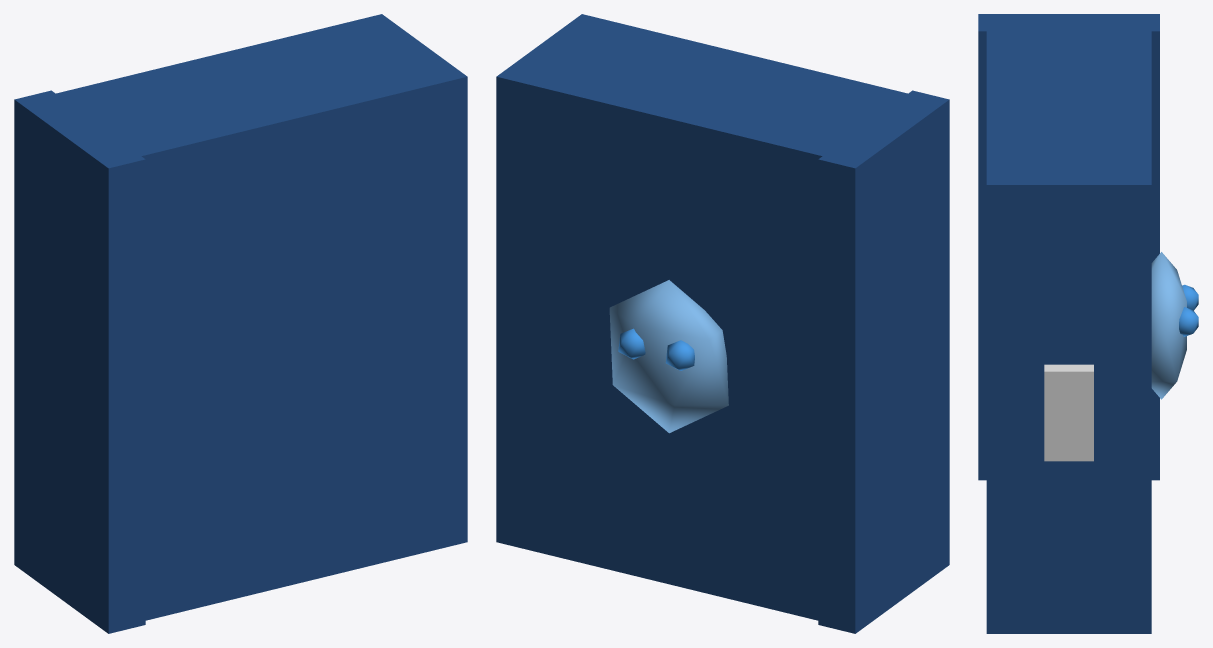
The model's file is water_bolt.glb.
The picture shows the model from 3 angles, left to right: view 1: azimuth 30°, elevation 25°; view 2: azimuth 150°, elevation 25°; view 3: azimuth 270°, elevation 25°; orthographic projection. The views are drawn at different scales.
Parts seen in each view (by area): view 1: water_bolt_v0; view 2: water_bolt_v0; view 3: water_bolt_v0.
Boxes of the visible parts, x1=… form: water_bolt_v0: x1=14, y1=14, x2=467, y2=633; water_bolt_v0: x1=496, y1=14, x2=949, y2=633; water_bolt_v0: x1=978, y1=14, x2=1198, y2=633.
Bounding box in the file's own units: 0.255 × 0.3 × 0.1335.
